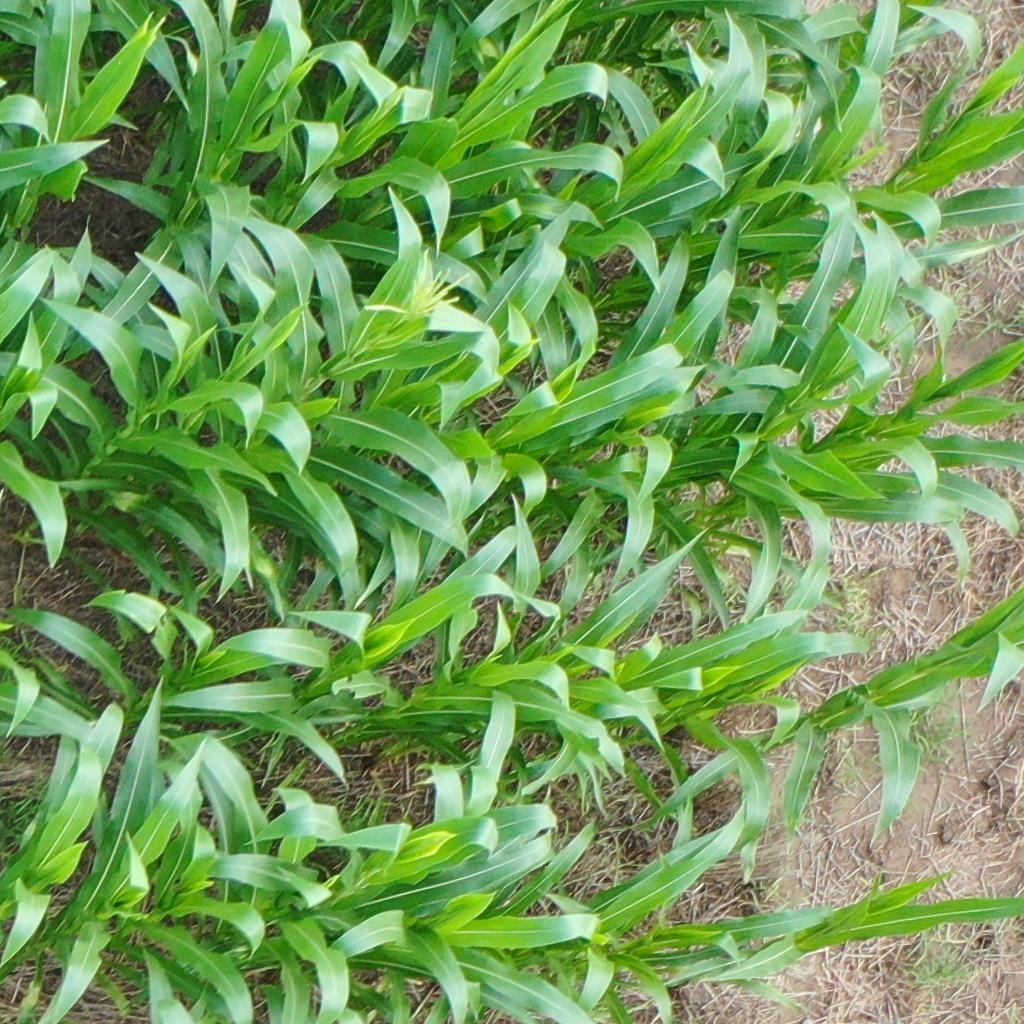Tassel: (364, 248, 470, 322)
